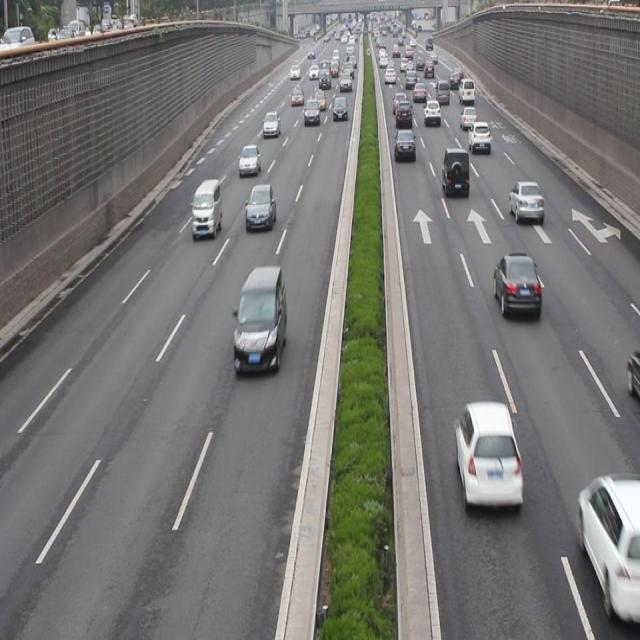car: (575, 474, 640, 622), (454, 399, 521, 505), (492, 252, 540, 319), (508, 178, 543, 224), (244, 182, 276, 232), (440, 146, 470, 198), (238, 142, 260, 176), (467, 119, 490, 151), (394, 128, 415, 160), (394, 98, 412, 128), (422, 98, 441, 126), (261, 110, 280, 137), (460, 103, 477, 132)
truck: (232, 266, 286, 374), (191, 177, 222, 238)
